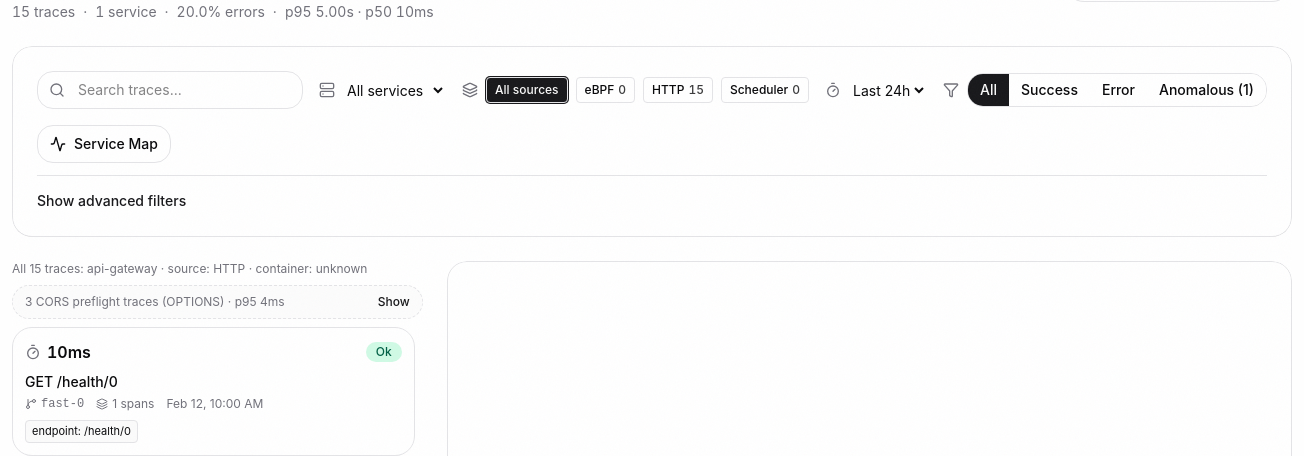
Test case: TraceExplorerPage › keeps span metadata in the detail pane
The image size is (1304, 456).
Click the text "GET /health/0".
click(71, 382)  # box [25,373,118,390]
(page scrolled)
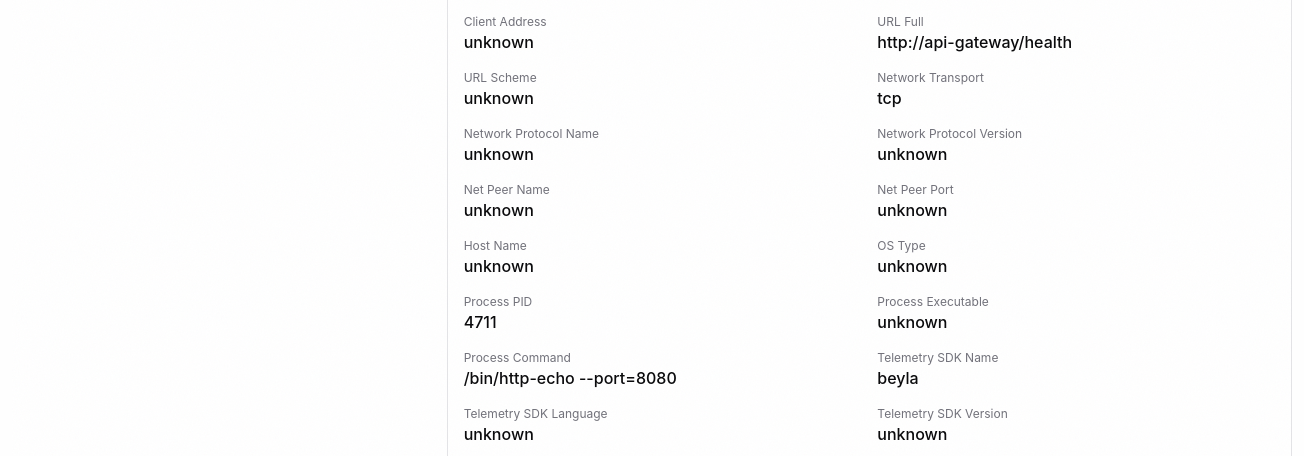
expect the text "Process PID" is shown: met, box [464,294,532,309]
expect the text "4711" is shown: met, box [464,312,497,332]
